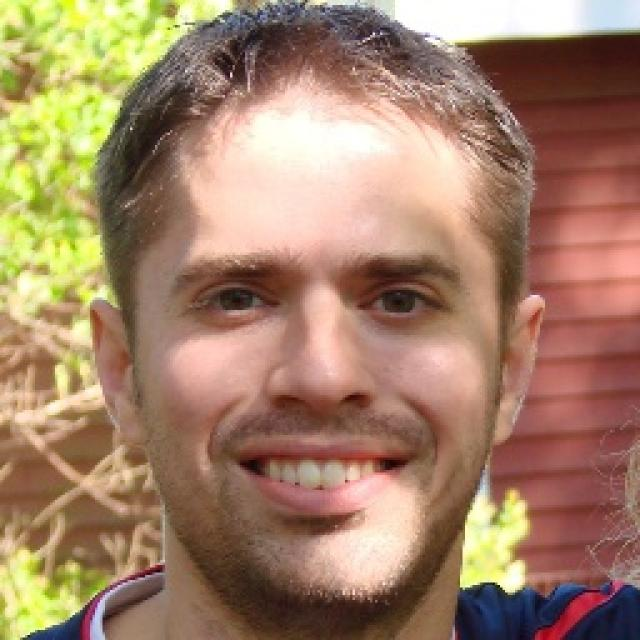earlobe: (90, 297, 148, 450), (489, 295, 546, 449)
